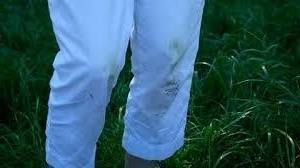earth: (105, 61, 119, 82), (169, 40, 181, 63)
